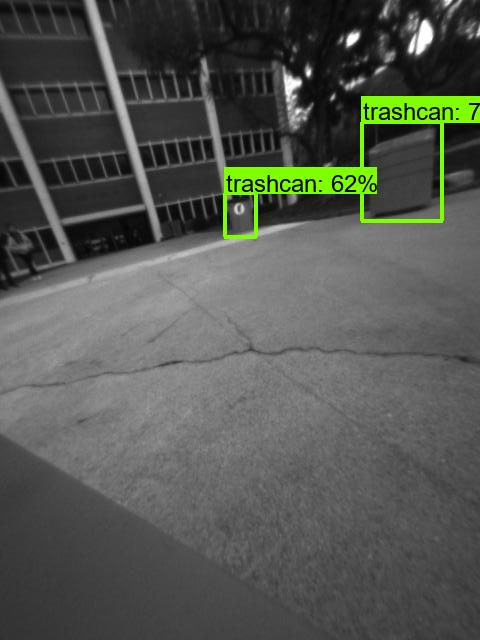trashcan: (366, 125, 435, 218), (223, 196, 258, 233)
